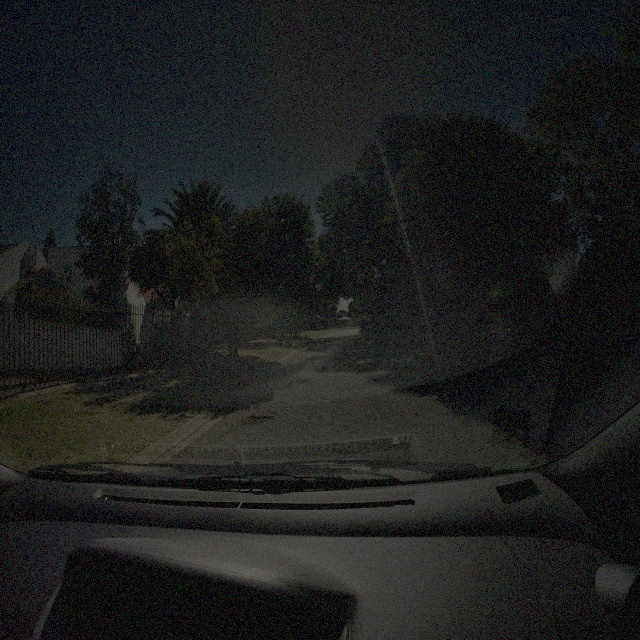pothole: (238, 411, 275, 430), (274, 400, 287, 406)
